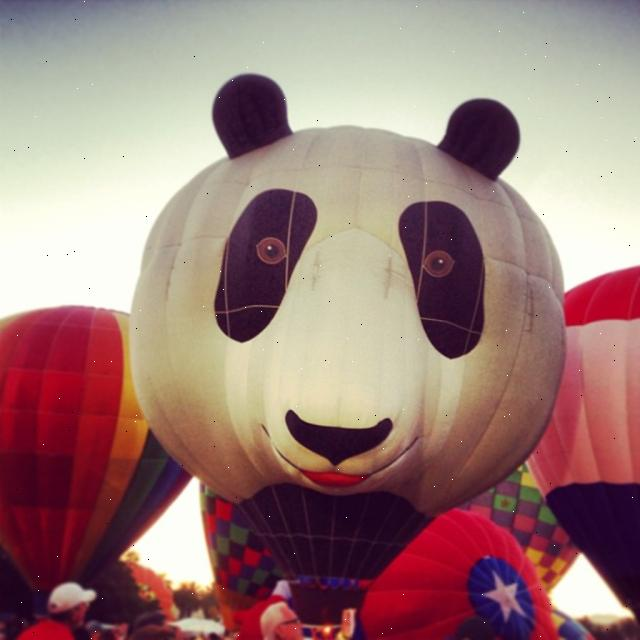panda: (118, 74, 573, 510)
